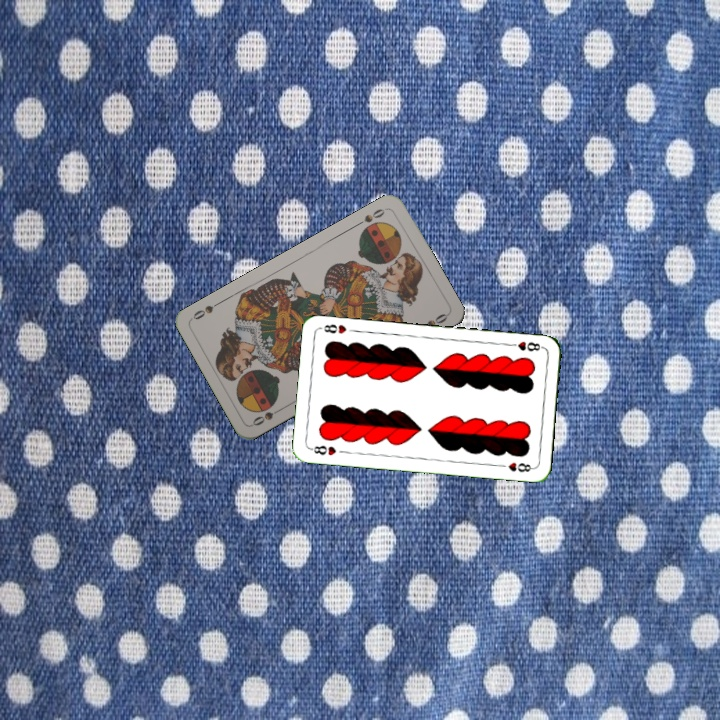H8: (505, 338, 545, 354), (307, 441, 339, 458)
SO: (248, 403, 286, 428), (352, 204, 390, 229)
